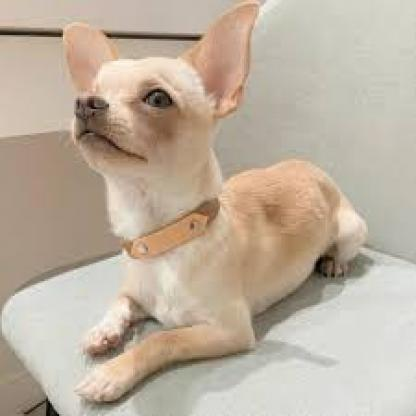Chihuahua: (51, 0, 380, 362)
